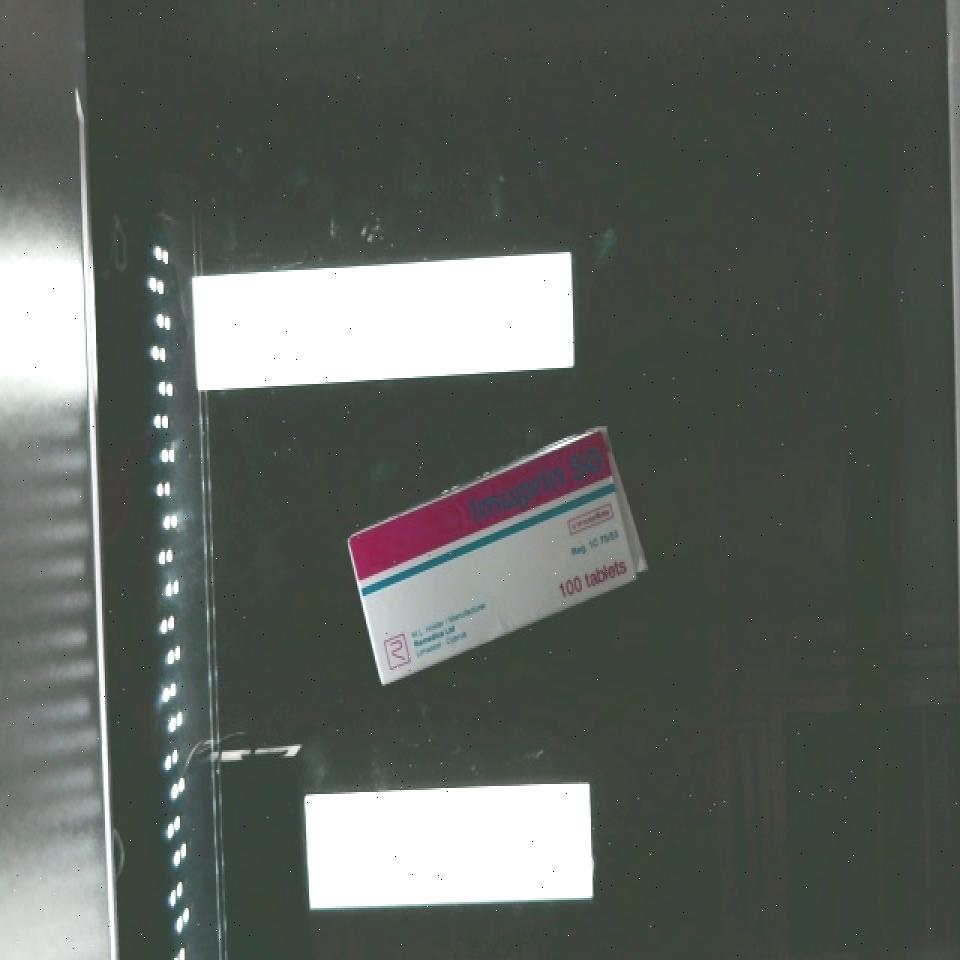medicine_box: (323, 425, 665, 685)
medicine_label_obb: (445, 430, 623, 542)
